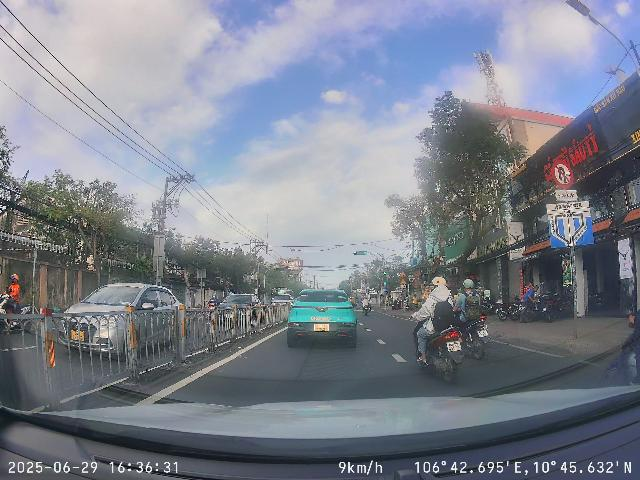124b-cam-oto-quay-dau-xe: (551, 160, 574, 189)
